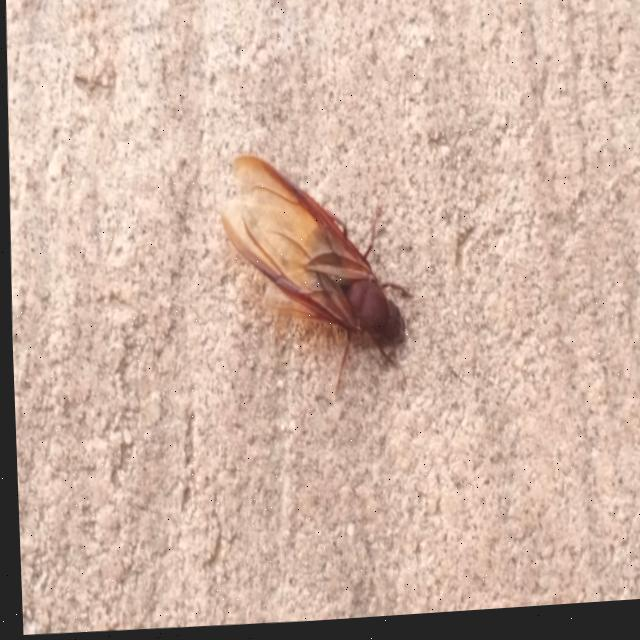Alive-Female-Alate: (213, 147, 416, 409)
